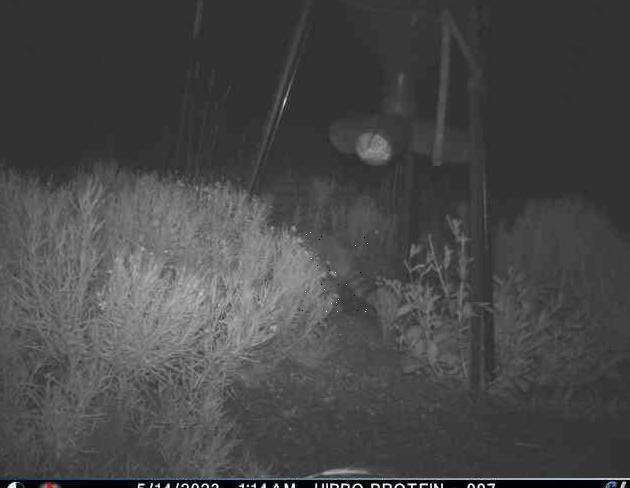Raccoon: (298, 228, 380, 313)
